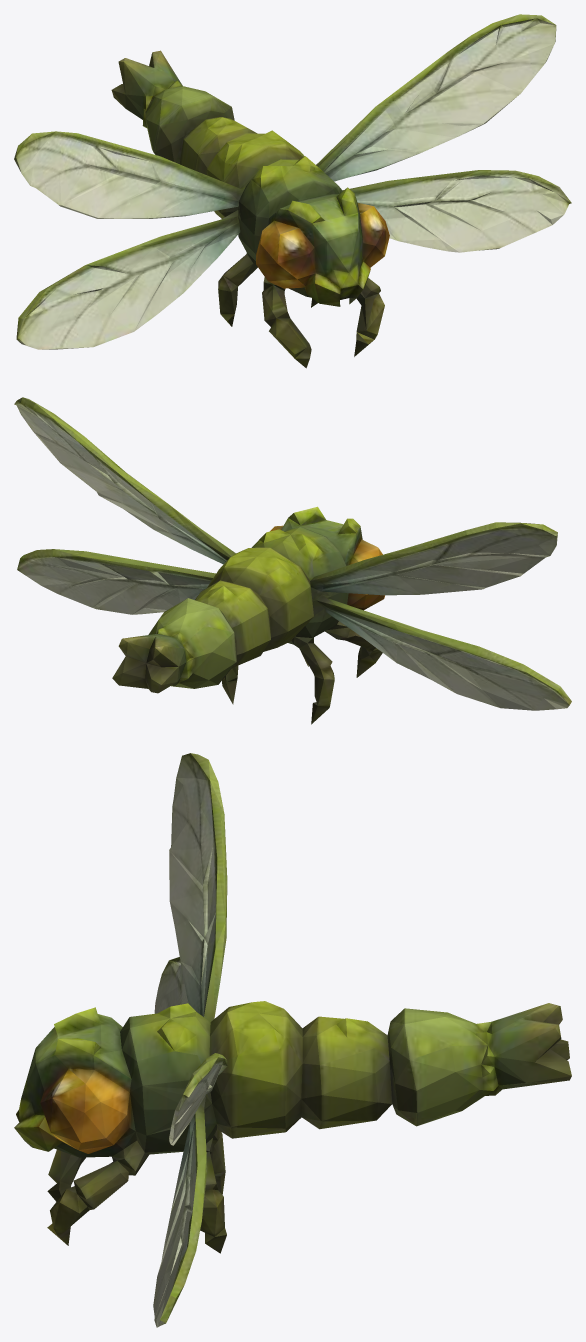
File: m_libellule_marais.glb
3 views of the same model, one above another, from view 1: azimuth 30°, elevation 25°; view 2: azimuth 150°, elevation 25°; view 3: azimuth 270°, elevation 25° (orthographic). The views are drawn at different scales.
Visible parts, largest first — view 1: monstre; view 2: monstre; view 3: monstre.
Boxes of the visible parts, x1,y1,x2,y2 form: monstre: (14,14,571,368); monstre: (14,397,571,724); monstre: (14,753,571,1327).
Size of the model in its own units: 1 by 0.4315 by 0.6808.
1 material, 1 textured.
